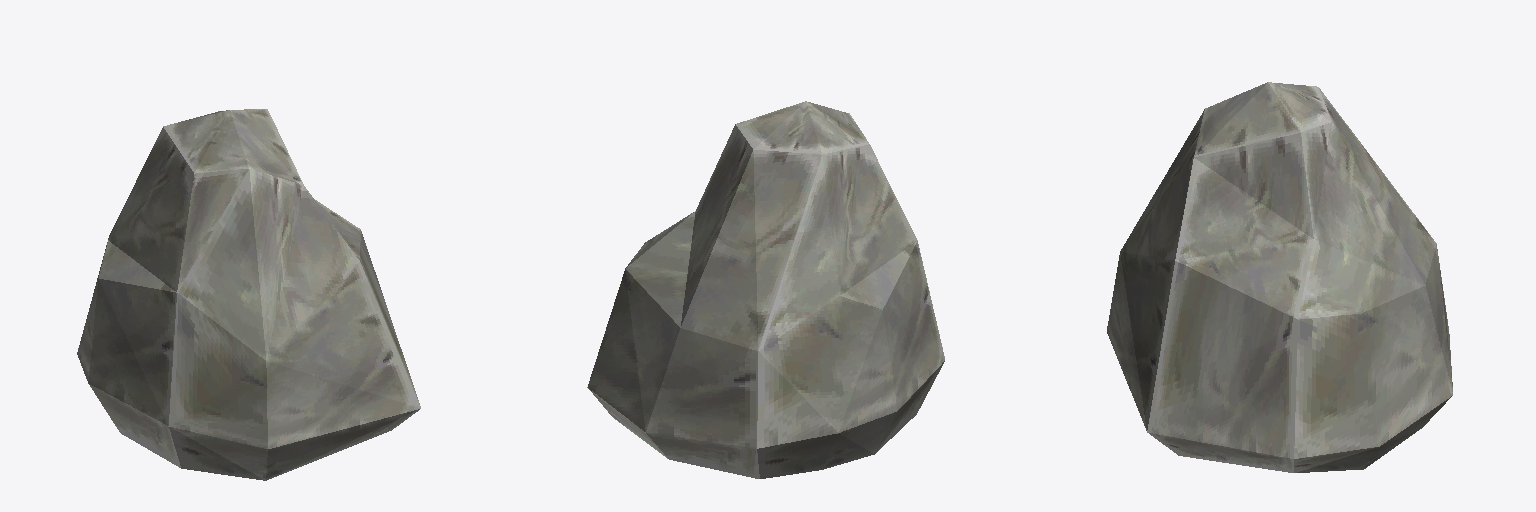
3 views of the same model, side by side, from view 1: azimuth 30°, elevation 25°; view 2: azimuth 150°, elevation 25°; view 3: azimuth 270°, elevation 25° (orthographic).
Visible parts, largest first — view 1: rock_big; view 2: rock_big; view 3: rock_big.
Boxes of the visible parts, box(x1,y1,x2,y2) form: rock_big: box(77, 109, 420, 480); rock_big: box(587, 101, 944, 478); rock_big: box(1107, 82, 1452, 472).
Size of the model in its own units: 298 by 303 by 301.
1 materials, 1 textured.